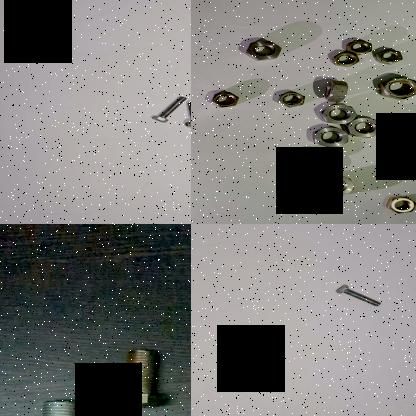Bolts: (103, 344, 163, 408), (19, 388, 89, 416), (332, 283, 386, 309), (148, 93, 186, 123), (180, 100, 191, 128)
NUTS: (338, 114, 384, 142), (242, 36, 282, 64), (312, 174, 356, 198), (310, 124, 350, 150), (315, 102, 356, 126), (377, 76, 416, 101), (320, 76, 348, 104), (282, 160, 316, 182), (342, 37, 376, 58), (271, 91, 307, 109), (373, 47, 403, 68), (385, 195, 416, 215), (206, 90, 239, 108), (330, 52, 362, 70), (297, 146, 328, 164)
